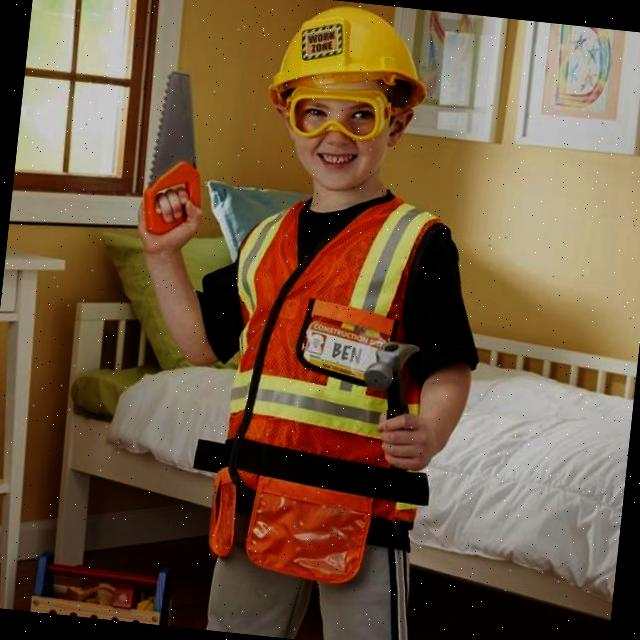helmet: (263, 0, 439, 124)
vest: (202, 185, 450, 589)
